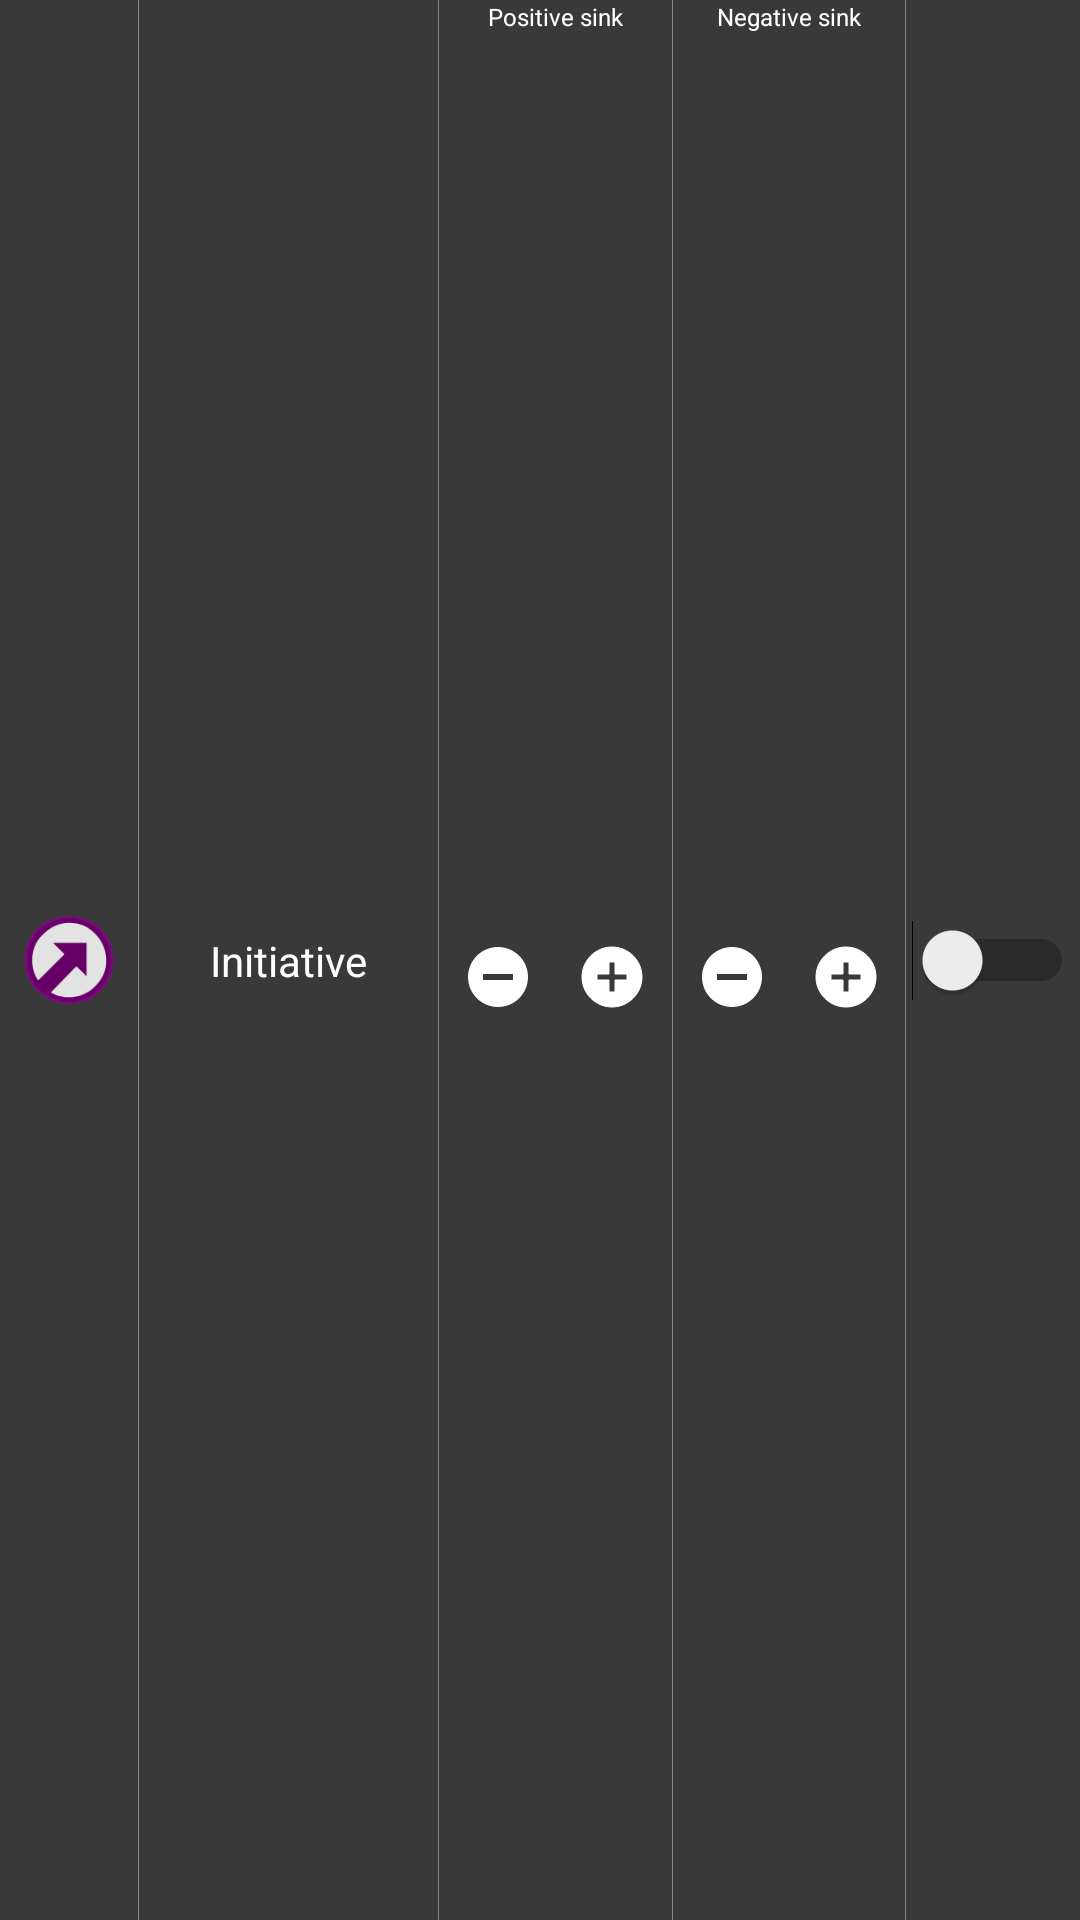

Icons on this 1080w x 1920h Android screen, each with the point to tap as (x=x, y=y):
add circle: (x=612, y=977), (x=846, y=977)
remove circle: (x=498, y=977), (x=732, y=977)
